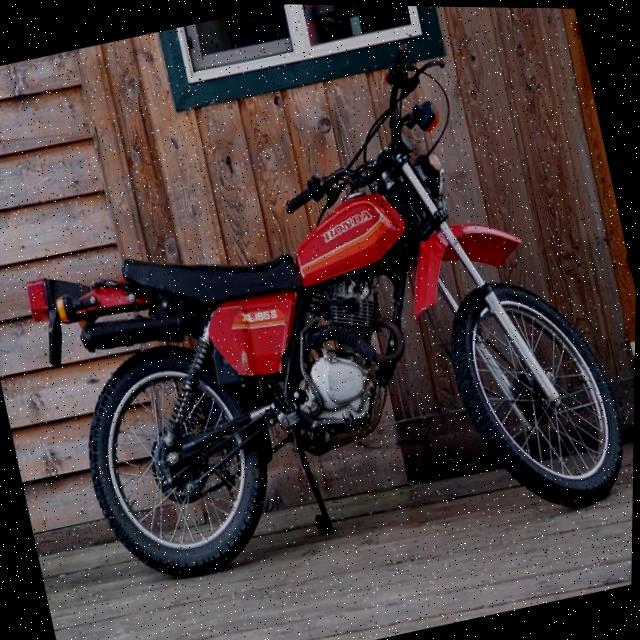motorcycle: (0, 0, 640, 620)
